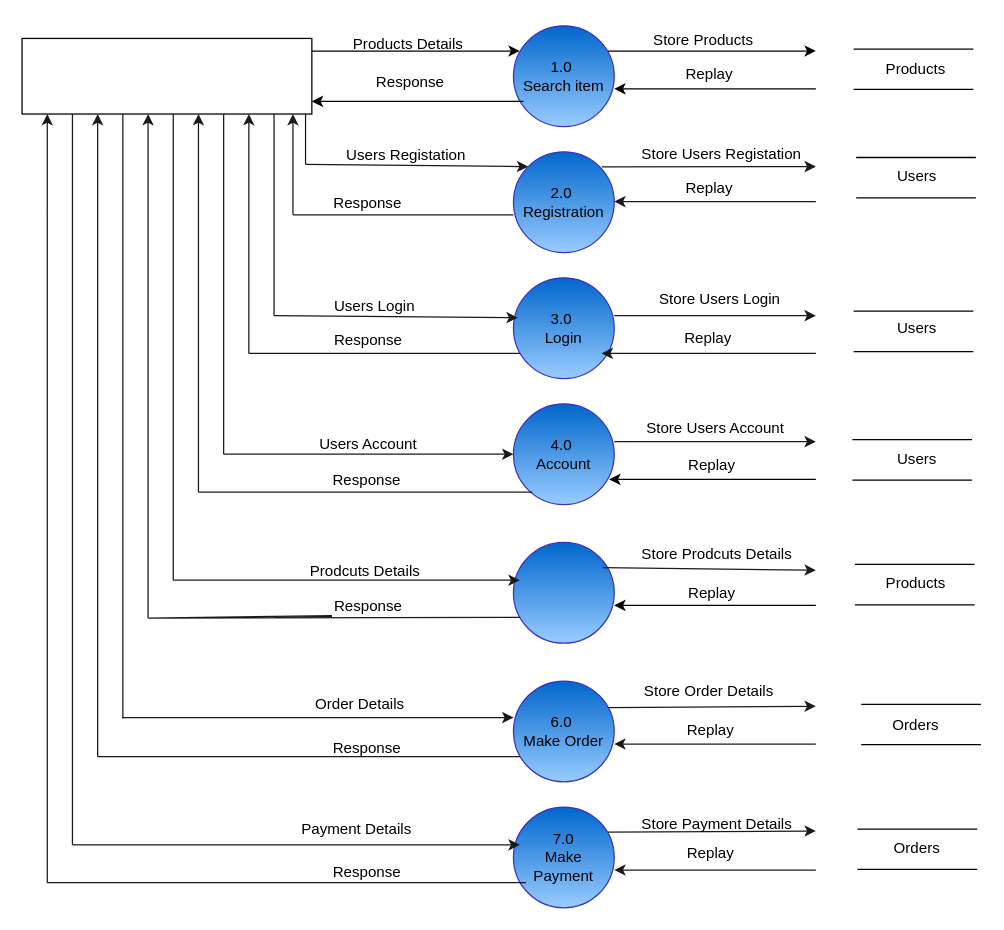
Image size: 1004x930. Some labels were removed from this diagram. The box of each missing label's shape, as (x1, y1, x2, y2) in pixels:
5.0 Buy Items: (512, 541, 614, 643)
User: (21, 37, 312, 114)
